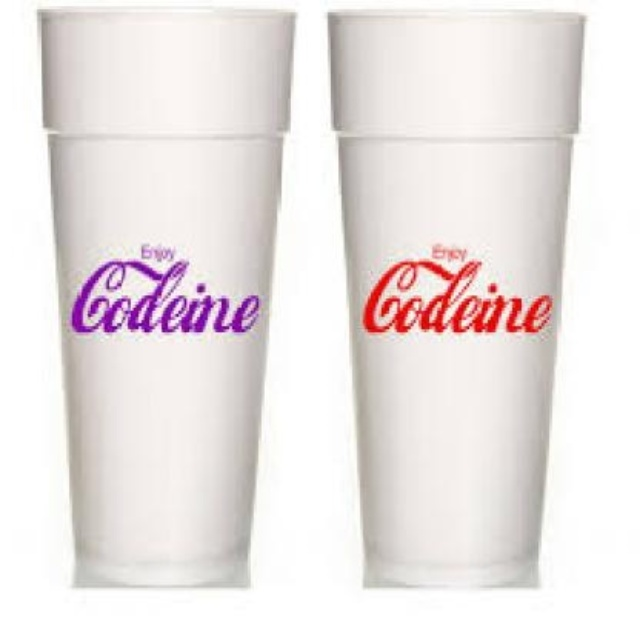trash: (331, 12, 582, 585), (42, 11, 291, 585)
